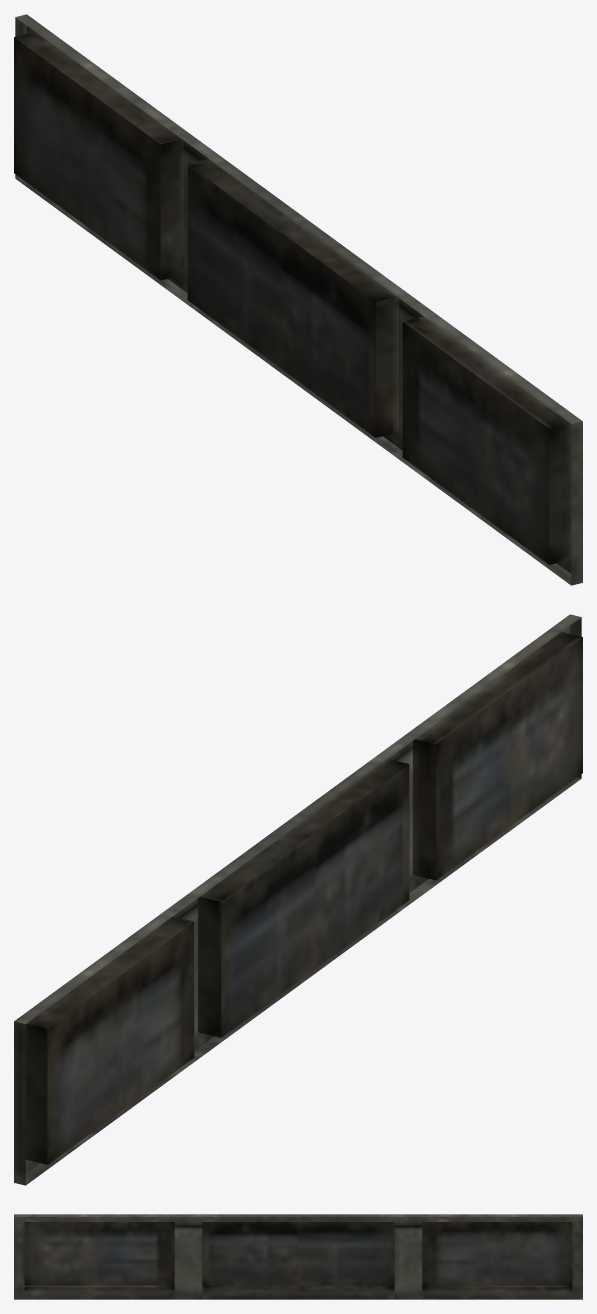
Rendered from LongWindows_Ground.FBX.
The picture shows the model from 3 angles, top to bottom: view 1: azimuth 30°, elevation 25°; view 2: azimuth 150°, elevation 25°; view 3: azimuth 270°, elevation 25°; orthographic projection. The views are drawn at different scales.
Visible parts, largest first — view 1: LongWindows_Ground; view 2: LongWindows_Ground; view 3: LongWindows_Ground.
Boxes of the visible parts, x1,y1,x2,y2 form: LongWindows_Ground: (14, 14, 582, 585); LongWindows_Ground: (14, 614, 582, 1185); LongWindows_Ground: (14, 1214, 582, 1299).
Bounding box in the file's own units: 20 × 132 × 826.
